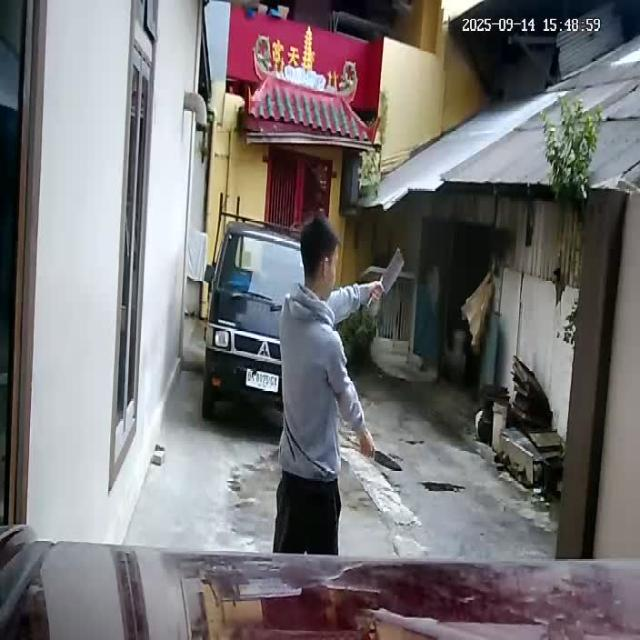senjata_tajam: (379, 246, 405, 298), (373, 446, 404, 474)
